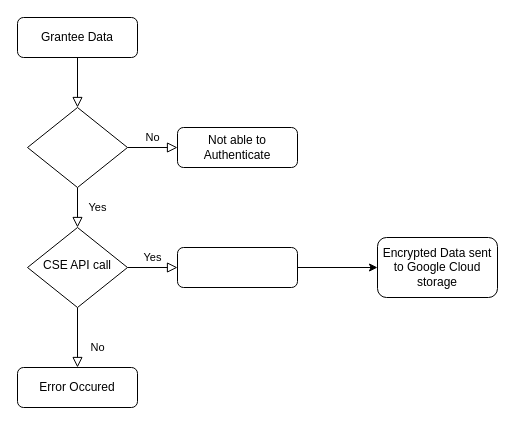
Some shapes in this 515 by 425 pixel diagram are drawn without their labels. The box of each missing label's shape, as (x1, y1, x2, y2) in pixels:
IdP: (26, 106, 128, 188)
KACLS controls generated keys: (176, 246, 298, 288)
